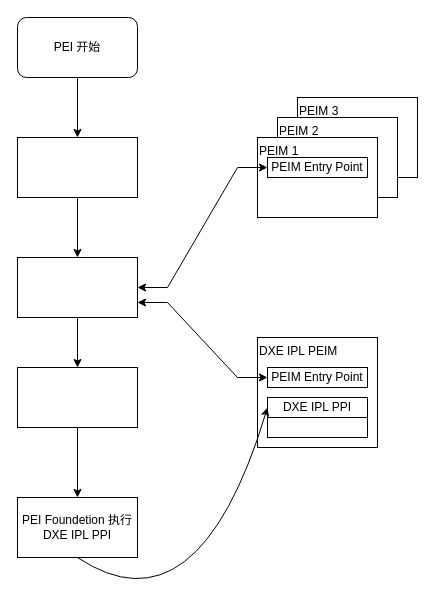
Image size: 435x597. Some labels were removed from this diagram. Here are the shapes that lost their labels. From the top down, the centre of each, then its label:
At point (77, 167): "初始化PEI Foundetion 分发".
At point (77, 287): "调用PEIMs".
At point (77, 397): "准备状态移交数据至DXE IPL PPI".
At point (317, 427): "Load/Start DXE".
